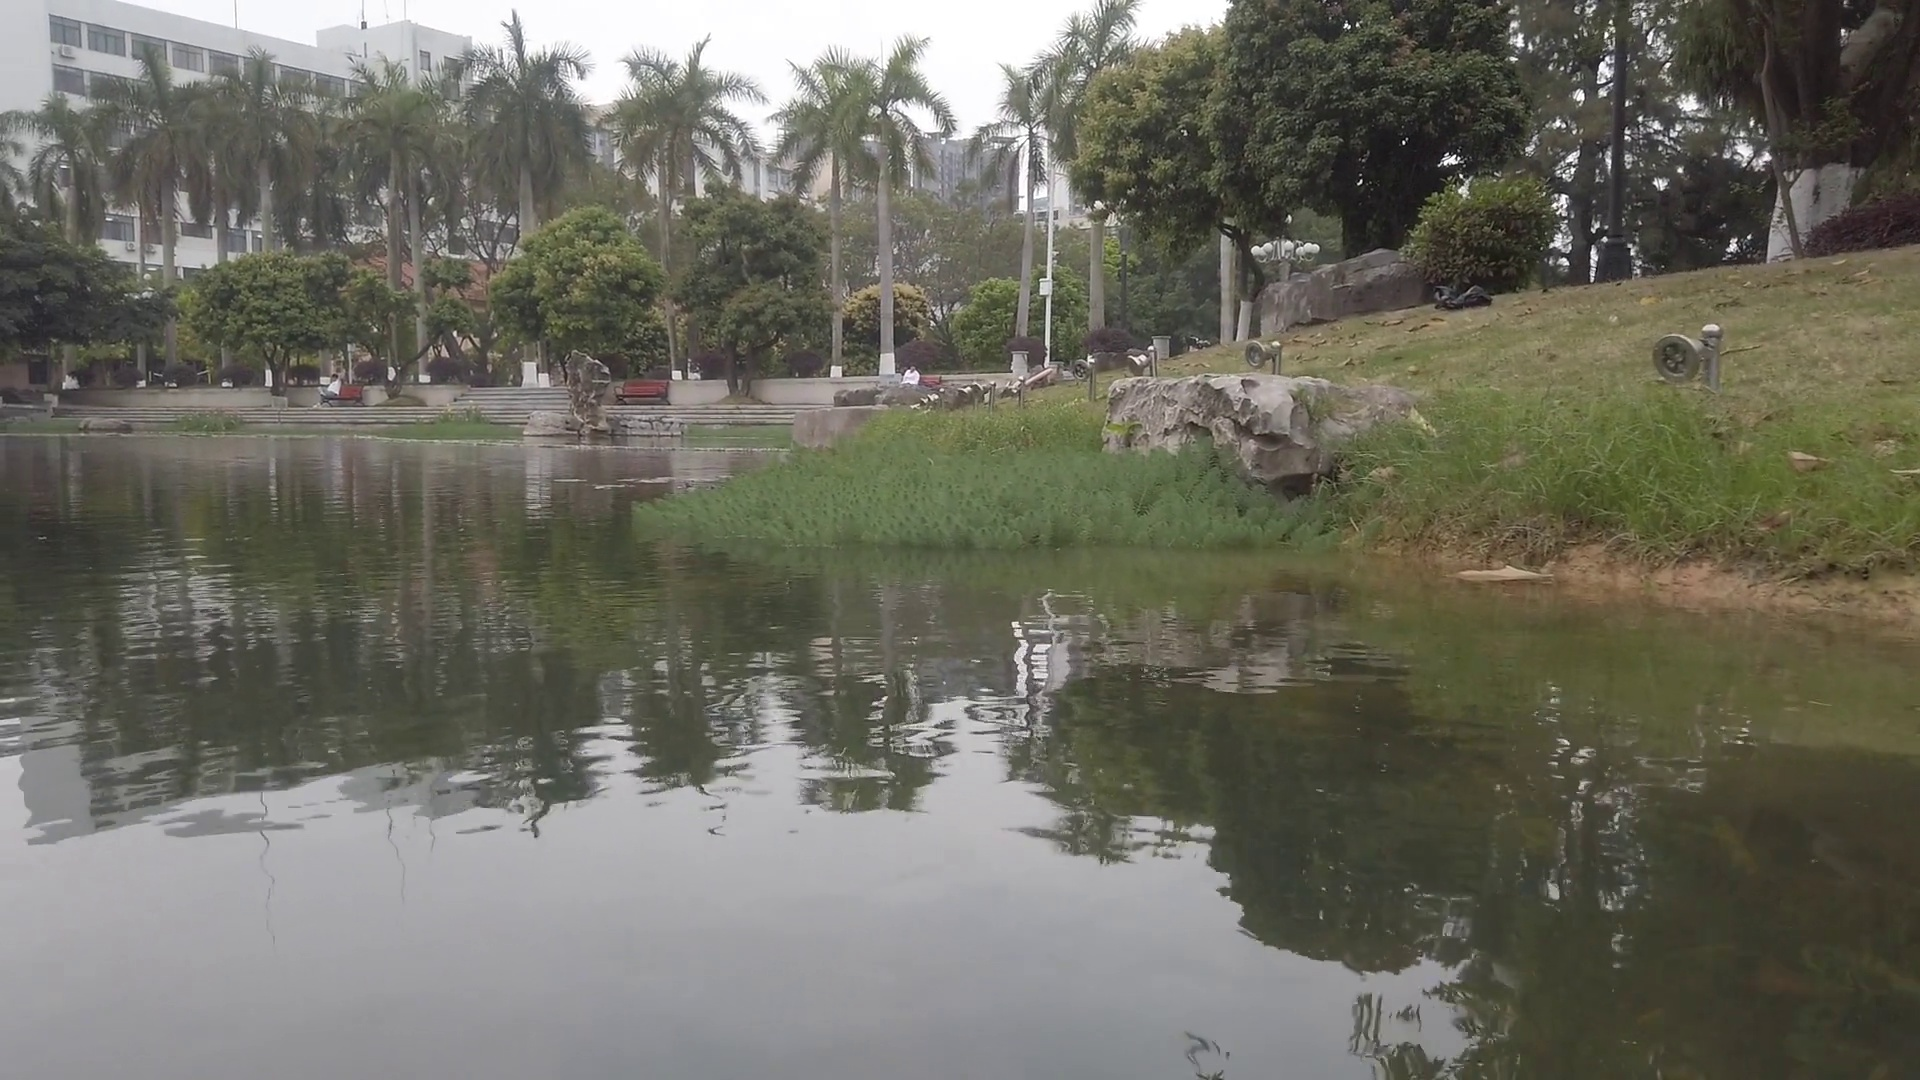paper: (1451, 562, 1545, 585)
